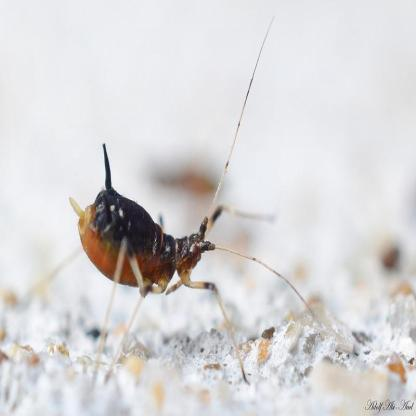aphid: (57, 114, 308, 384)
